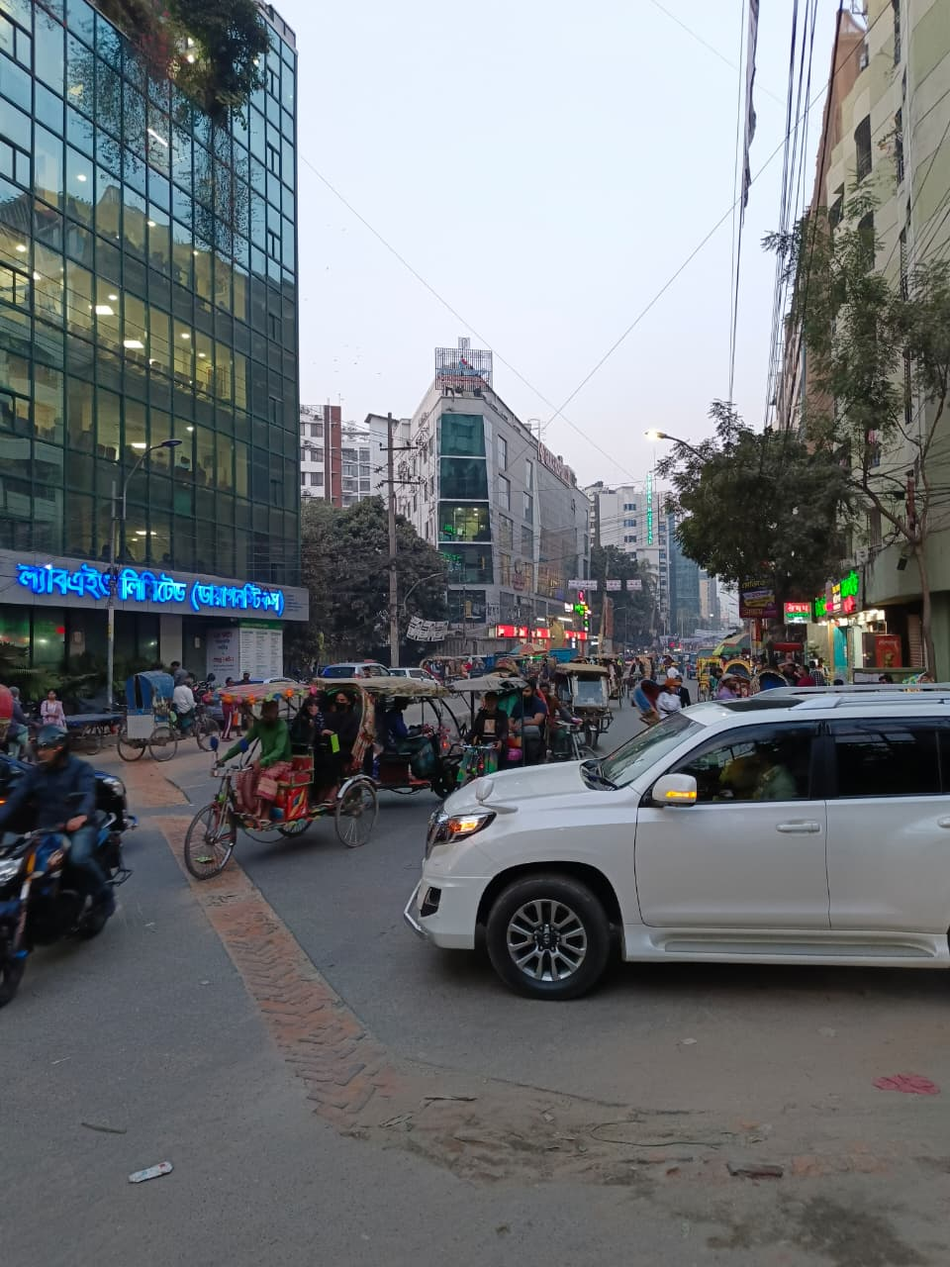auto-ricksaw: (176, 669, 377, 880), (443, 670, 563, 768), (114, 651, 211, 762)
private car: (383, 668, 950, 996)
